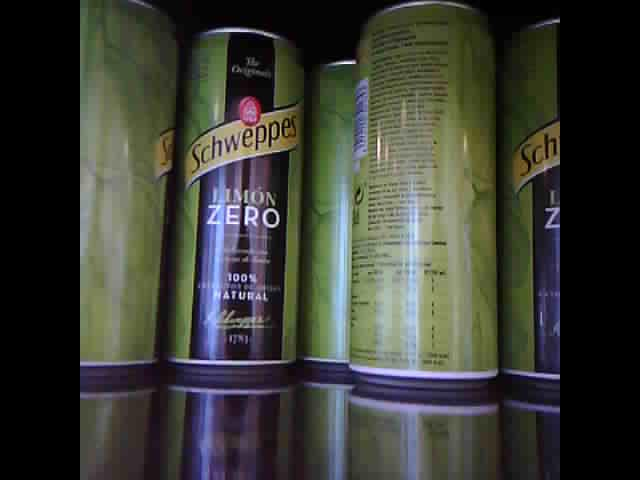schweppes: (349, 4, 501, 383), (161, 18, 309, 376), (80, 1, 179, 374), (504, 10, 559, 383), (297, 39, 355, 372)
